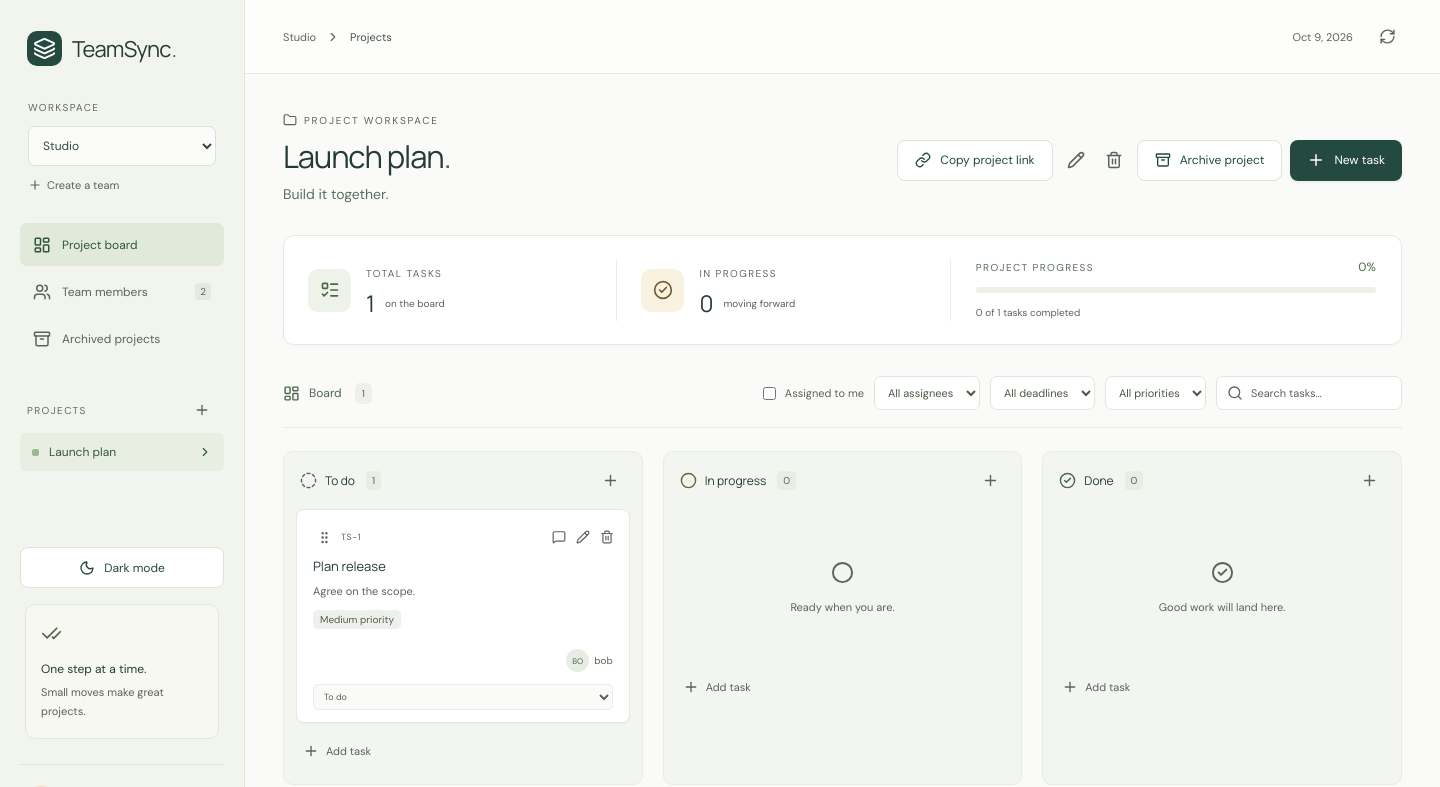
keeps the editor open and shows field validation errors
Expected: the heading "Launch plan." is shown, [283, 136, 450, 176]
Click the button "New task" at (1346, 160), box [1290, 140, 1402, 180]
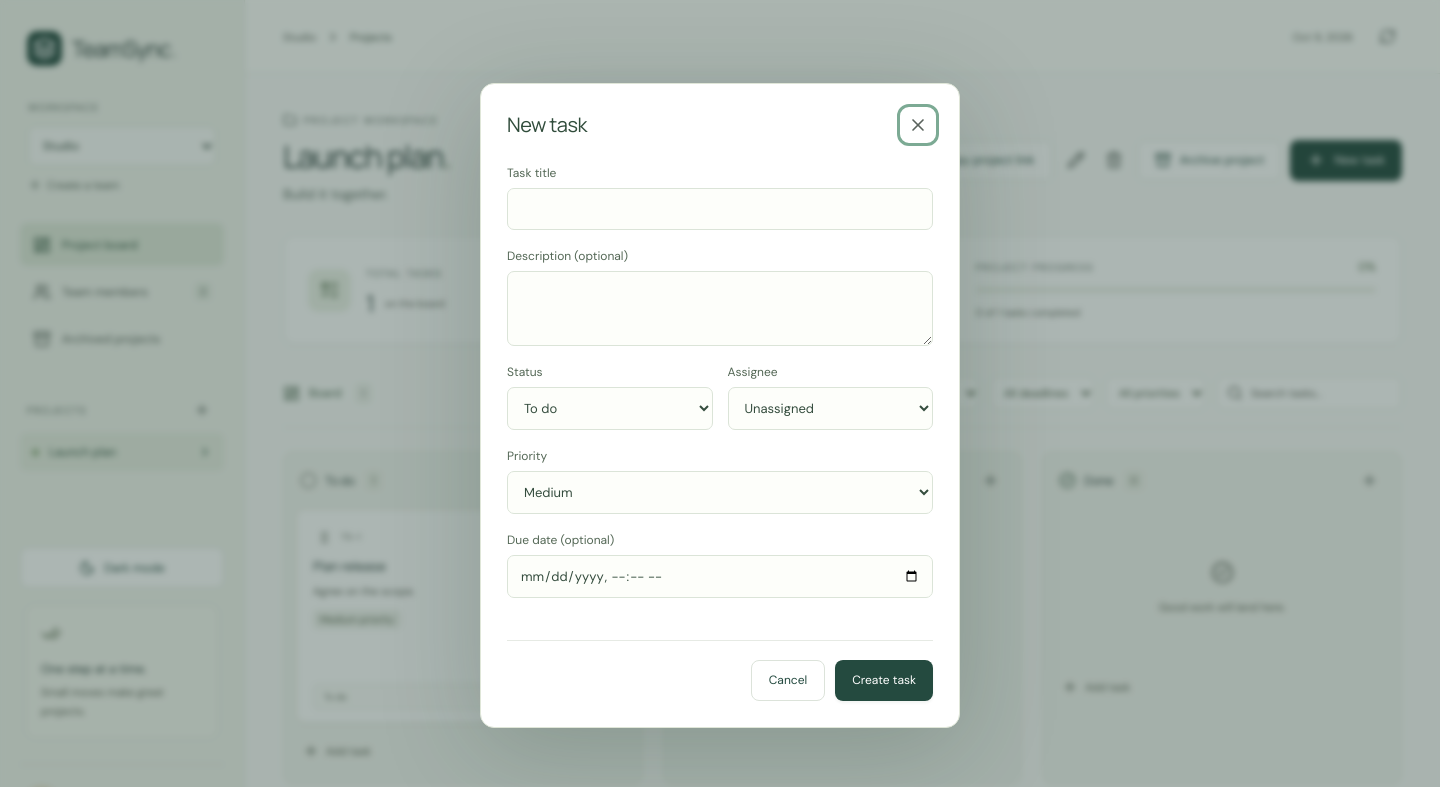
Type "Rejected" into the field labelled "Task title" at (720, 208), box [507, 188, 933, 230]
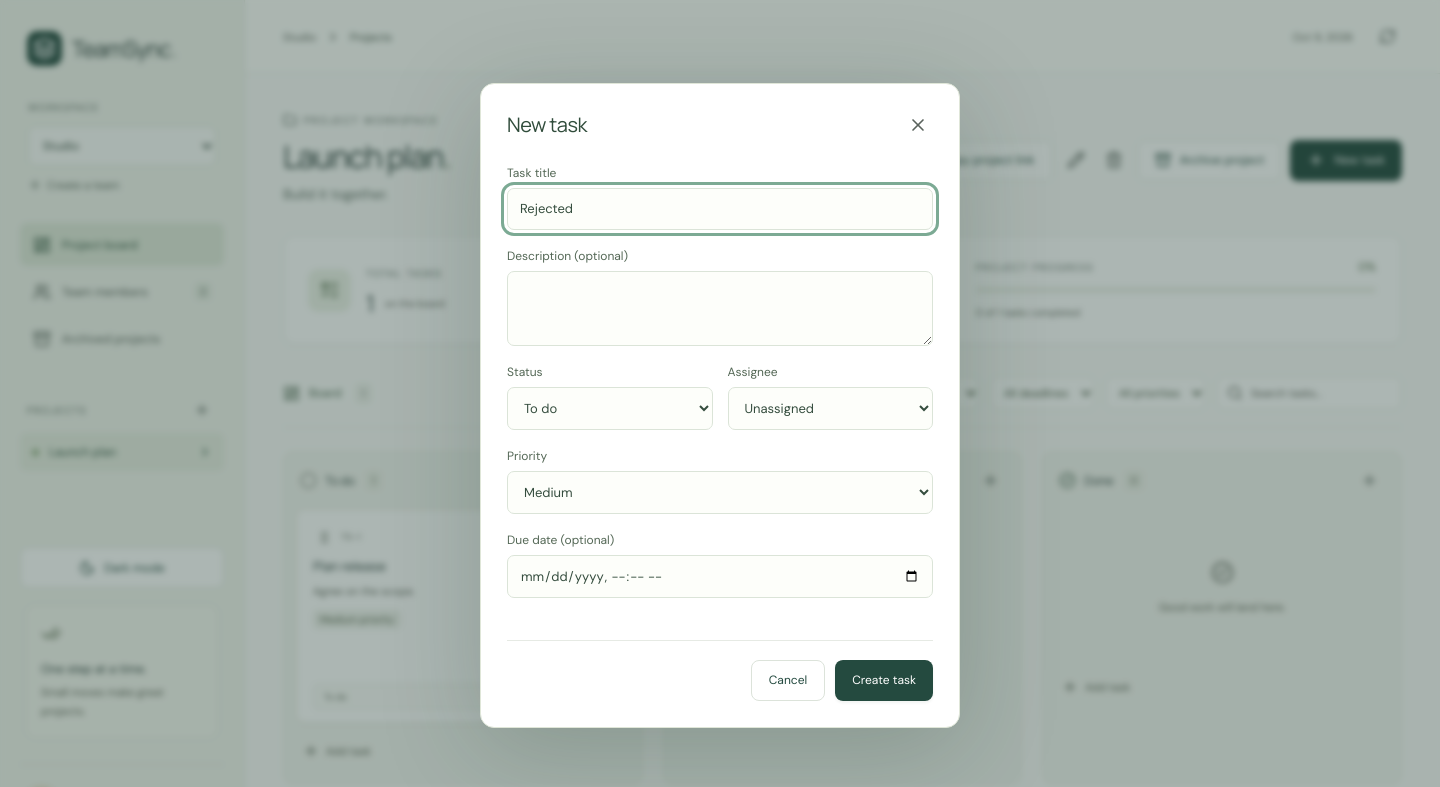
Click the button "Create task" at (884, 680), box [835, 660, 933, 700]
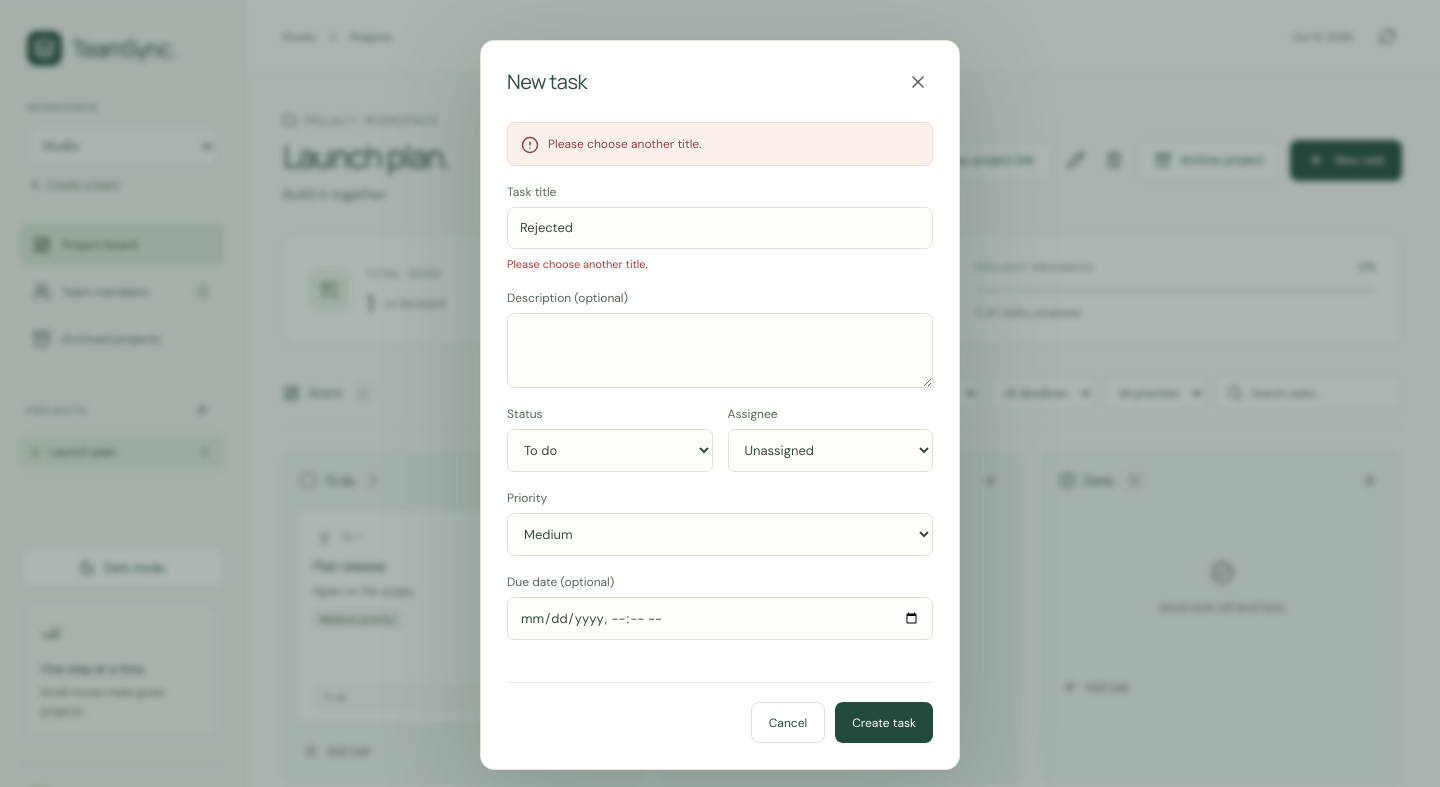
Expected: the dialog is shown, [480, 40, 960, 770]
Expected: the message shows "Please choose another title", [548, 136, 702, 152]
